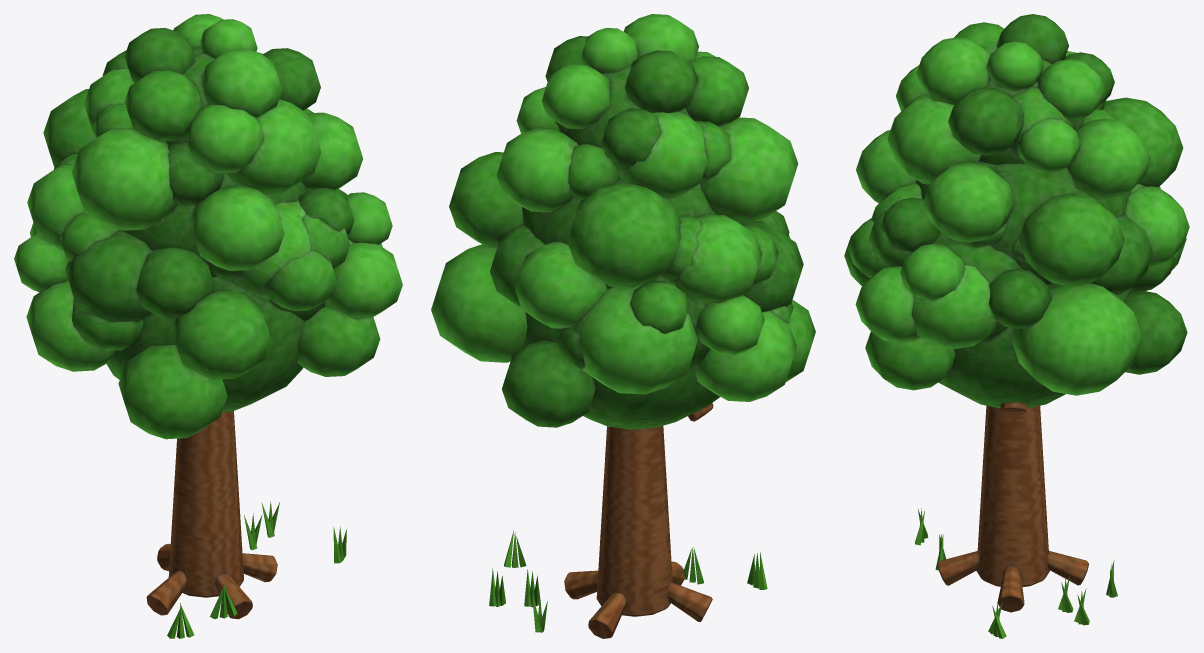
File: pawpaw_tree.glb
3 views of the same model, side by side, from view 1: azimuth 30°, elevation 25°; view 2: azimuth 150°, elevation 25°; view 3: azimuth 270°, elevation 25° (orthographic). The views are drawn at different scales.
Visible parts, largest first — view 1: crown, pawpaw_tree; view 2: crown, pawpaw_tree; view 3: crown, pawpaw_tree.
Part boxes in pixels (x1,y1,x2,y2): crown: (14,14,402,439); pawpaw_tree: (146,411,346,638); crown: (431,14,815,429); pawpaw_tree: (489,403,767,638); crown: (844,14,1189,408); pawpaw_tree: (915,402,1117,638).
Size of the model in its own units: 0.8885 by 1.48 by 0.8402.
Materials: 1 (1 with a texture image).
